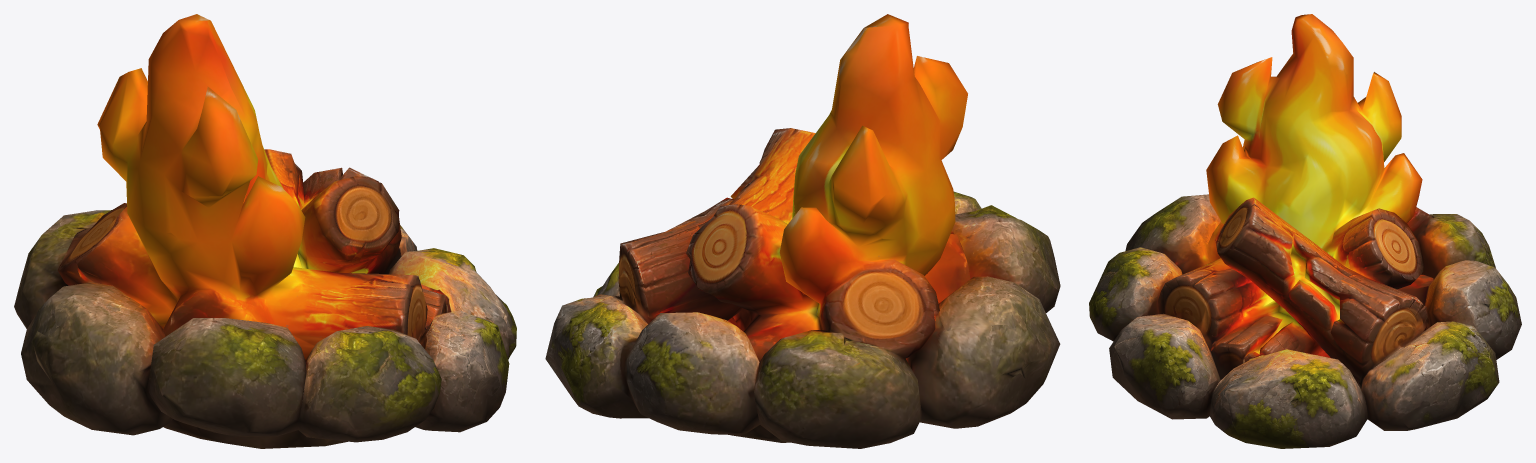
The model's file is Kit_W_Campfire_Fire_raw.glb.
3 renders of one model, left to right at view 1: azimuth 30°, elevation 25°; view 2: azimuth 150°, elevation 25°; view 3: azimuth 270°, elevation 25°, orthographic. The views are drawn at different scales.
Visible parts, largest first — view 1: tripo_node_c159bc5b-8773-4d67-b753-533810cad686; view 2: tripo_node_c159bc5b-8773-4d67-b753-533810cad686; view 3: tripo_node_c159bc5b-8773-4d67-b753-533810cad686.
Boxes of the visible parts, x1,y1,x2,y2 form: tripo_node_c159bc5b-8773-4d67-b753-533810cad686: [14, 14, 516, 448]; tripo_node_c159bc5b-8773-4d67-b753-533810cad686: [545, 14, 1060, 448]; tripo_node_c159bc5b-8773-4d67-b753-533810cad686: [1089, 14, 1521, 448].
Bounding box in the file's own units: 0.9739 × 0.8281 × 1.
1 material, 1 textured.
